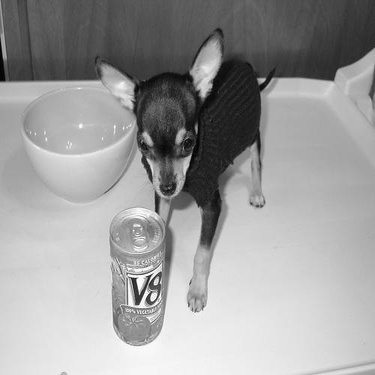dog: (81, 25, 280, 316)
